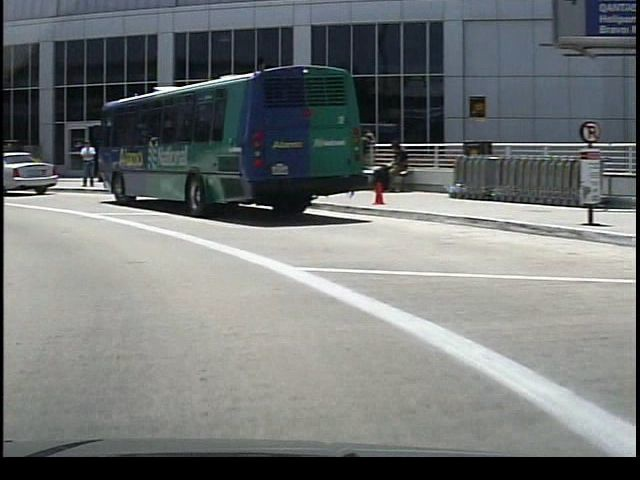person: (373, 137, 407, 198), (74, 139, 95, 190)
